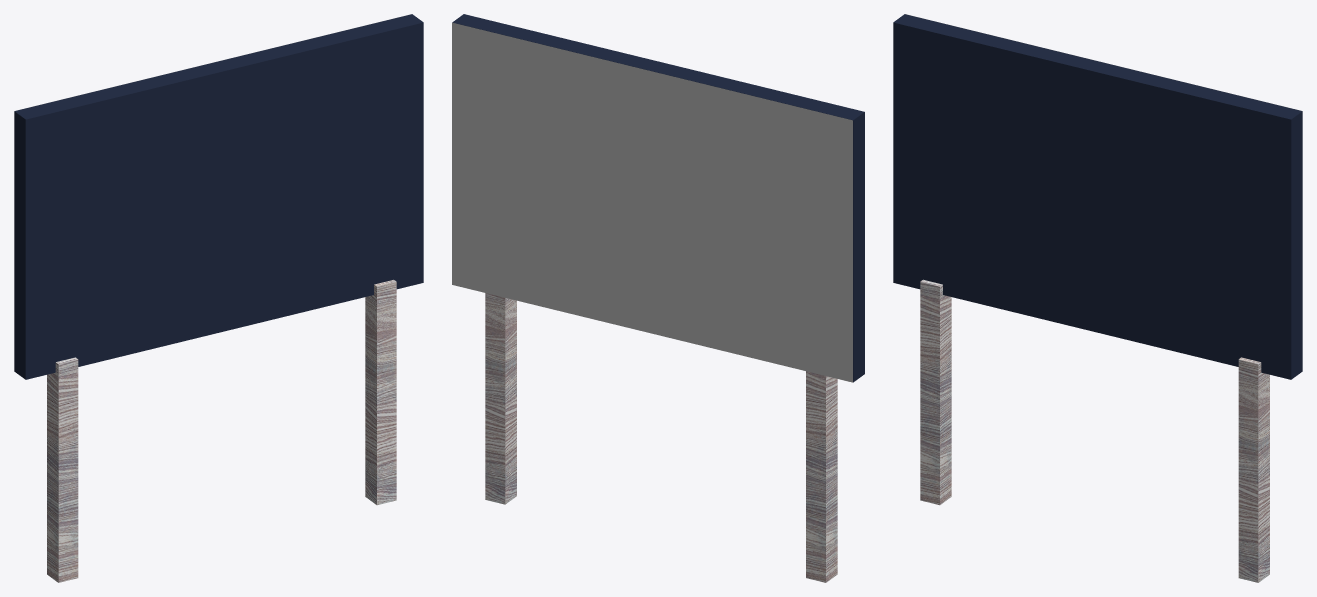
File: leaderboard_board.obj
3 renders of one model, left to right at view 1: azimuth 30°, elevation 25°; view 2: azimuth 150°, elevation 25°; view 3: azimuth 330°, elevation 25°, orthographic.
Parts seen in each view (by area): view 1: Board, PostL, PostR; view 2: Board_Face, Board, PostL, PostR; view 3: Board, PostR, PostL.
Part boxes in pixels (x1,y1,x2,y2): Board: [14, 14, 423, 379]; PostL: [47, 357, 78, 582]; PostR: [365, 279, 396, 505]; Board_Face: [452, 22, 852, 382]; Board: [452, 14, 864, 382]; PostL: [806, 371, 837, 582]; PostR: [485, 293, 516, 504]; Board: [893, 14, 1302, 379]; PostR: [1238, 357, 1269, 582]; PostL: [920, 279, 951, 505].
Bounding box in the file's own units: 8 × 9 × 0.505.
